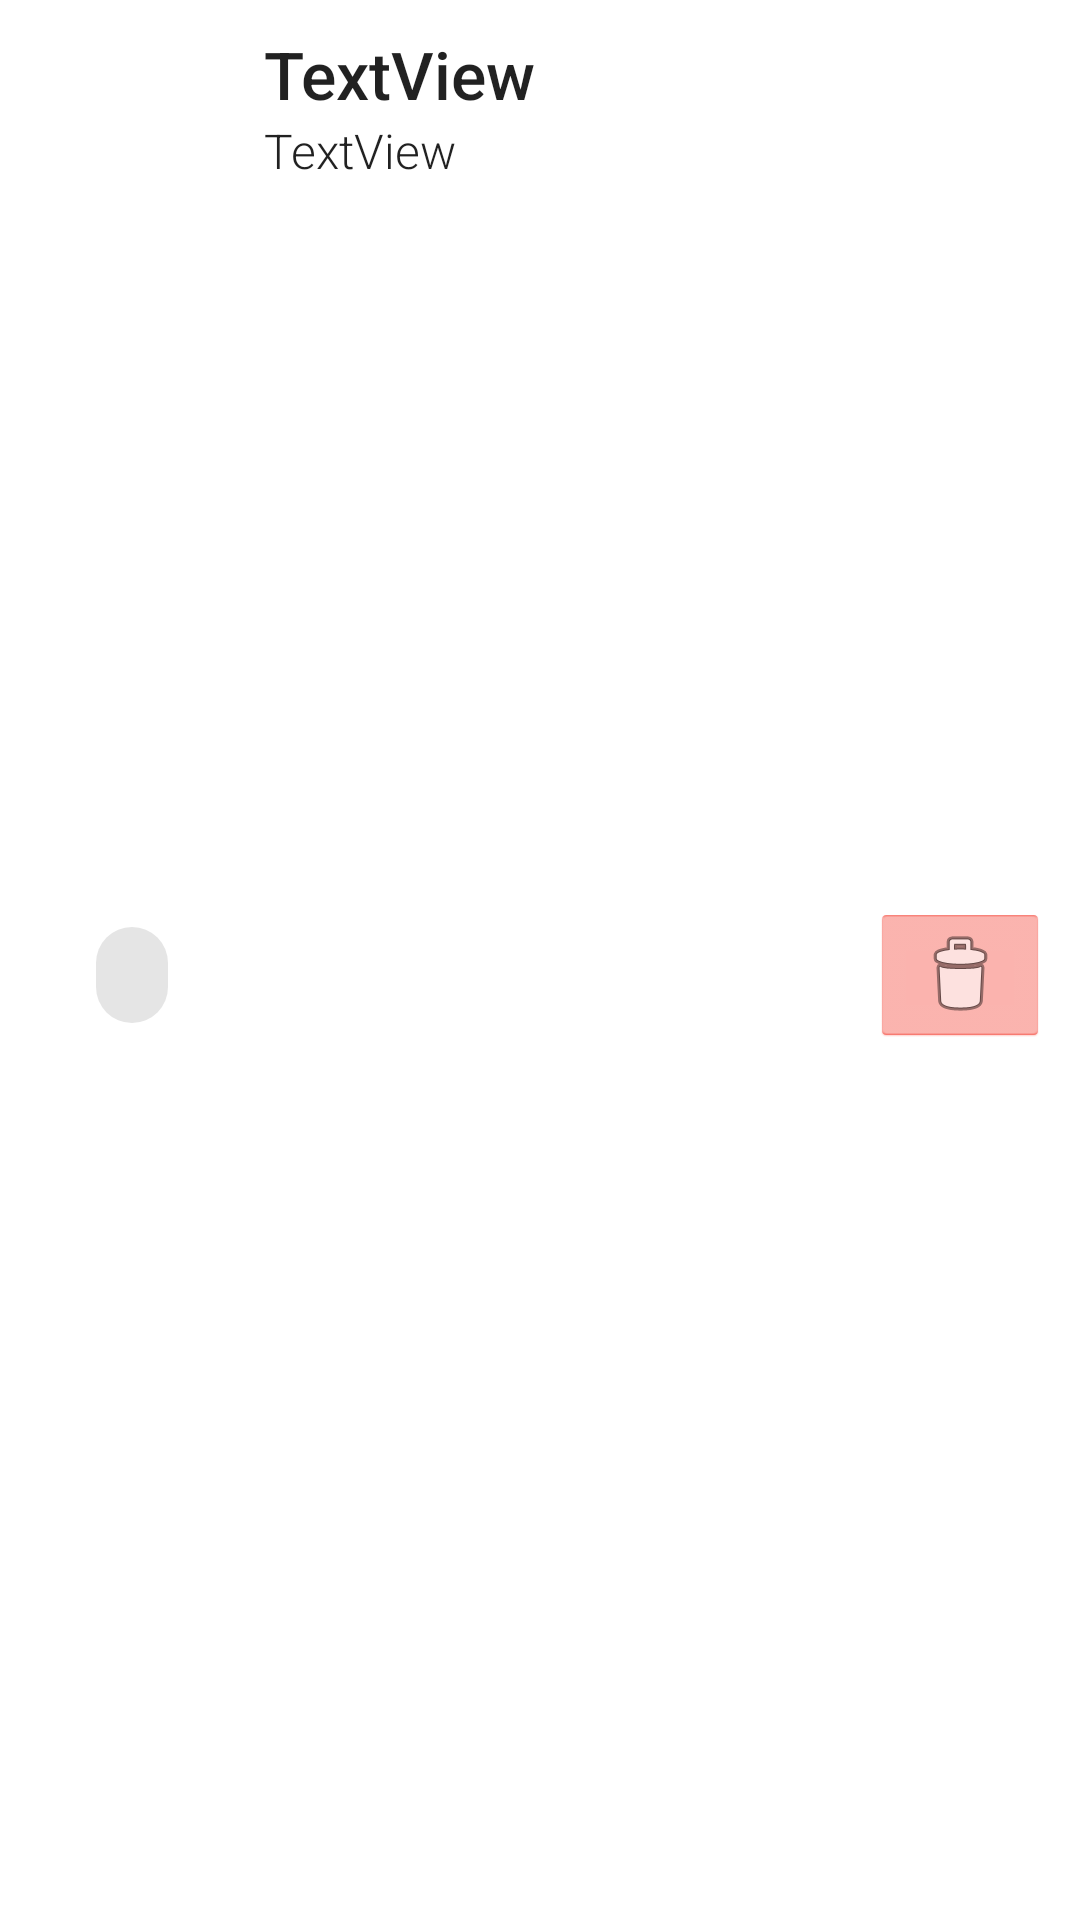

Point at icon controls on the screen. Image size 1080px×1920px, points as (x=x, y=y).
Delete: (x=960, y=975)
